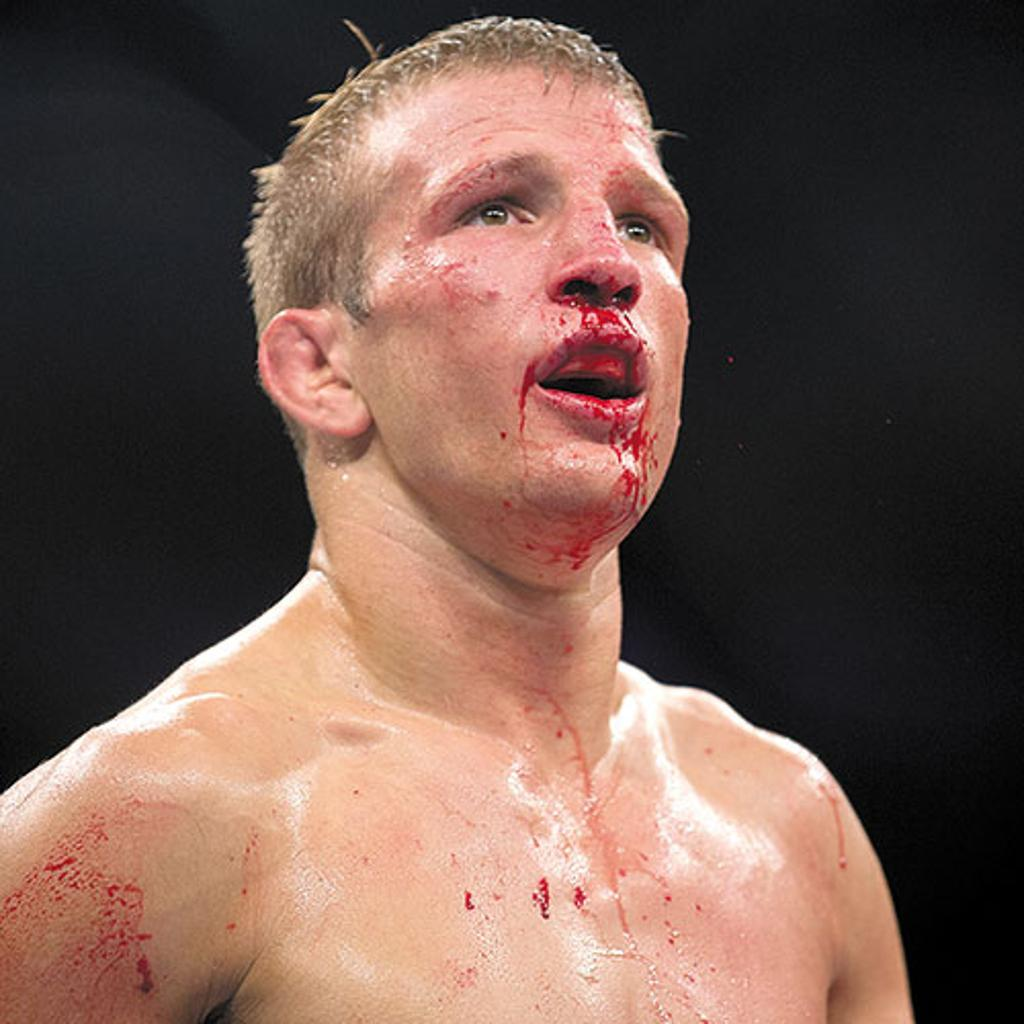face: (352, 54, 694, 526)
